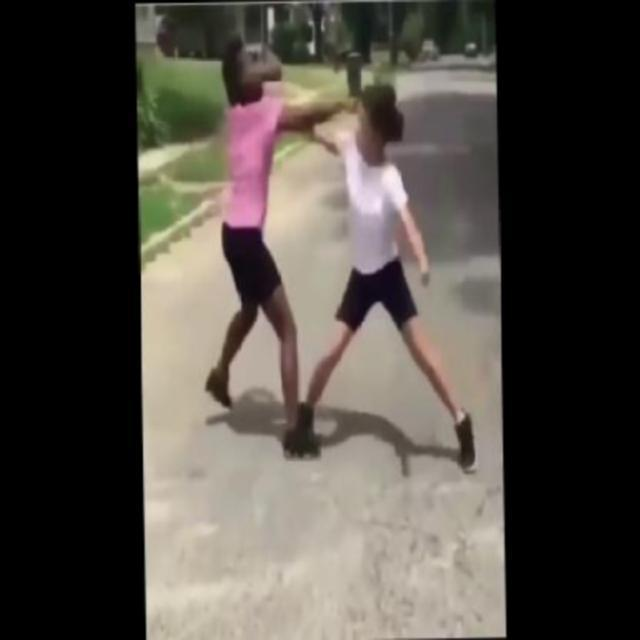fight: (216, 30, 478, 476)
